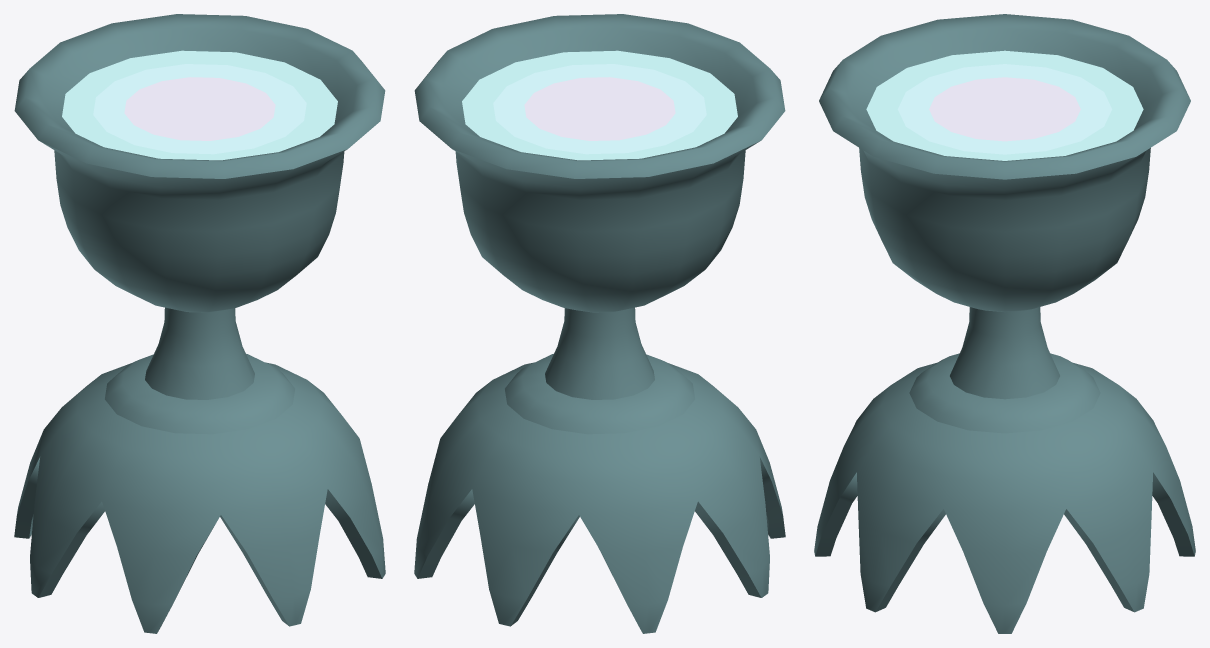
File: CA_022_magical_font.glb
3 renders of one model, left to right at view 1: azimuth 30°, elevation 25°; view 2: azimuth 150°, elevation 25°; view 3: azimuth 270°, elevation 25°, orthographic.
Visible parts, largest first — view 1: font, magic_water; view 2: font, magic_water; view 3: font, magic_water.
Part boxes in pixels (<box>): font: <box>14,14,385,633</box>; magic_water: <box>62,50,337,160</box>; font: <box>414,14,785,633</box>; magic_water: <box>462,50,737,160</box>; font: <box>814,14,1195,633</box>; magic_water: <box>866,50,1143,160</box>.
Bounding box in the file's own units: 0.7449 × 1 × 0.7449.
